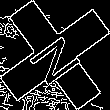N_NE: (23, 24, 87, 86)
